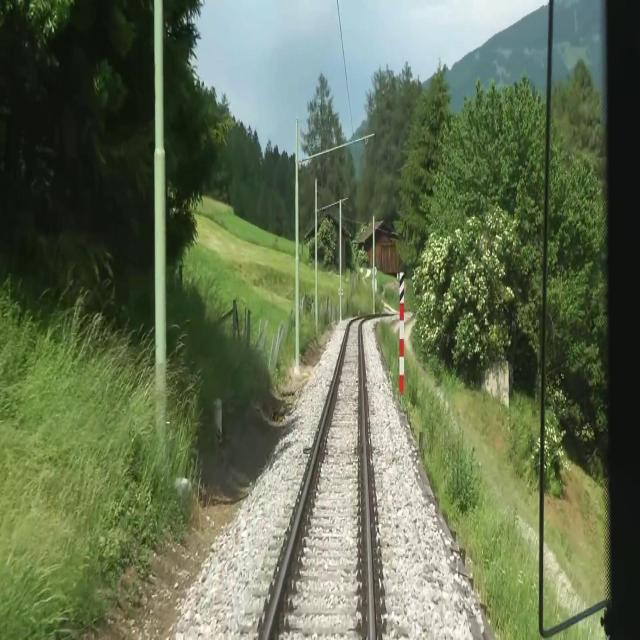rail-track: (267, 320, 370, 639)
